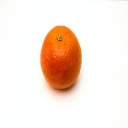orange: (40, 23, 84, 90)
